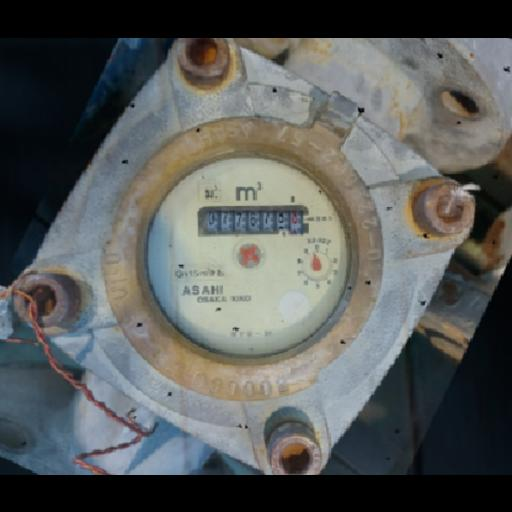0: (206, 210, 218, 230)
6: (249, 209, 259, 229)
7: (221, 210, 231, 230), (263, 209, 273, 229), (236, 210, 245, 230)
8: (291, 210, 300, 235), (277, 209, 287, 229)
border_water_meter_number: (198, 204, 311, 236)
